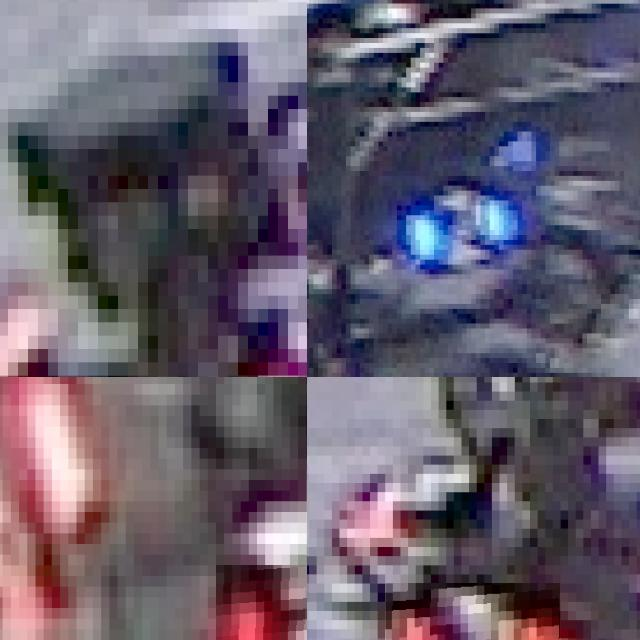B2: (401, 181, 513, 264)
R3: (385, 583, 560, 640), (216, 565, 307, 640)
